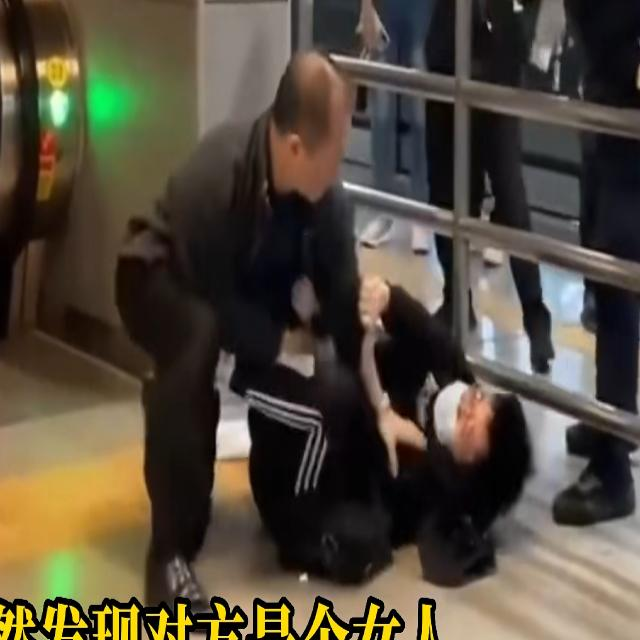fight: (162, 43, 537, 583)
